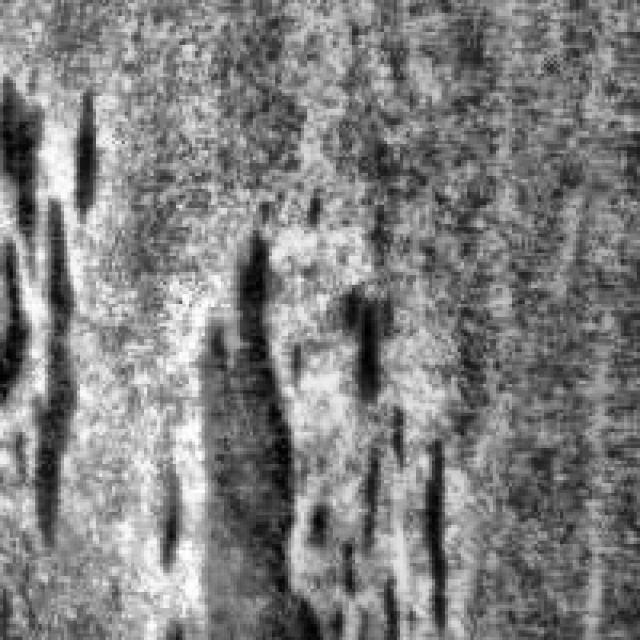Patches: (148, 221, 342, 634), (0, 67, 102, 540), (326, 422, 448, 637), (323, 275, 403, 413)
